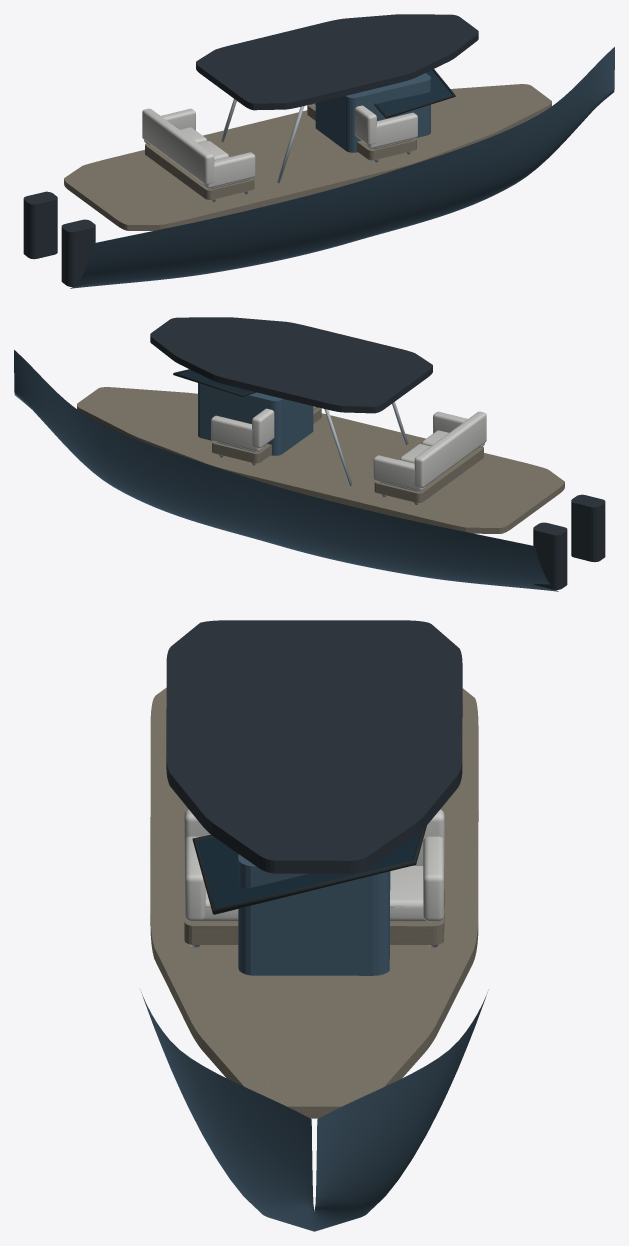
The model's file is ATLAS_Chase_12.glb.
The picture shows the model from 3 angles, top to bottom: view 1: azimuth 30°, elevation 25°; view 2: azimuth 150°, elevation 25°; view 3: azimuth 270°, elevation 25°; orthographic projection. The views are drawn at different scales.
Parts seen in each view (by area): view 1: MOV_Tender_Chase__pearl, MOV_Tender_Chase__teak1, MOV_Tender_Chase__graphite, MOV_Tender_Chase__fabric, MOV_Tender_Chase__teak0, MOV_Tender_Chase__glass, MOV_Tender_Chase__chrome; view 2: MOV_Tender_Chase__pearl, MOV_Tender_Chase__teak1, MOV_Tender_Chase__graphite, MOV_Tender_Chase__fabric, MOV_Tender_Chase__teak0, MOV_Tender_Chase__chrome; view 3: MOV_Tender_Chase__graphite, MOV_Tender_Chase__teak1, MOV_Tender_Chase__pearl, MOV_Tender_Chase__fabric, MOV_Tender_Chase__glass, MOV_Tender_Chase__teak0, MOV_Tender_Chase__rubber.
Boxes of the visible parts, box(x1,y1,x2,y2) form: MOV_Tender_Chase__pearl: box(70, 47, 614, 288); MOV_Tender_Chase__teak1: box(64, 84, 551, 230); MOV_Tender_Chase__graphite: box(23, 14, 478, 286); MOV_Tender_Chase__fabric: box(142, 103, 417, 188); MOV_Tender_Chase__teak0: box(145, 104, 416, 199); MOV_Tender_Chase__glass: box(377, 70, 452, 115); MOV_Tender_Chase__chrome: box(211, 99, 410, 201); MOV_Tender_Chase__pearl: box(14, 350, 558, 591); MOV_Tender_Chase__teak1: box(77, 387, 564, 533); MOV_Tender_Chase__graphite: box(150, 317, 605, 589); MOV_Tender_Chase__fabric: box(211, 406, 486, 491); MOV_Tender_Chase__teak0: box(212, 407, 483, 502); MOV_Tender_Chase__chrome: box(218, 402, 417, 504); MOV_Tender_Chase__graphite: box(166, 620, 462, 873); MOV_Tender_Chase__teak1: box(150, 687, 478, 1118); MOV_Tender_Chase__pearl: box(140, 854, 488, 1231); MOV_Tender_Chase__fabric: box(184, 809, 444, 921); MOV_Tender_Chase__glass: box(196, 832, 420, 908); MOV_Tender_Chase__teak0: box(184, 882, 444, 944); MOV_Tender_Chase__rubber: box(192, 826, 426, 914).
Size of the model in its own units: 11.98 by 3.64 by 3.72.
Materials: 9 (2 with a texture image).
